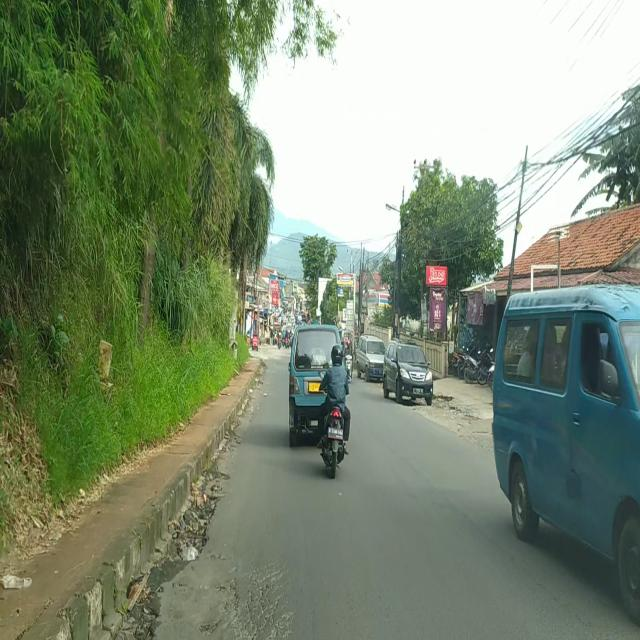Drain Hole: (202, 557, 290, 640)
